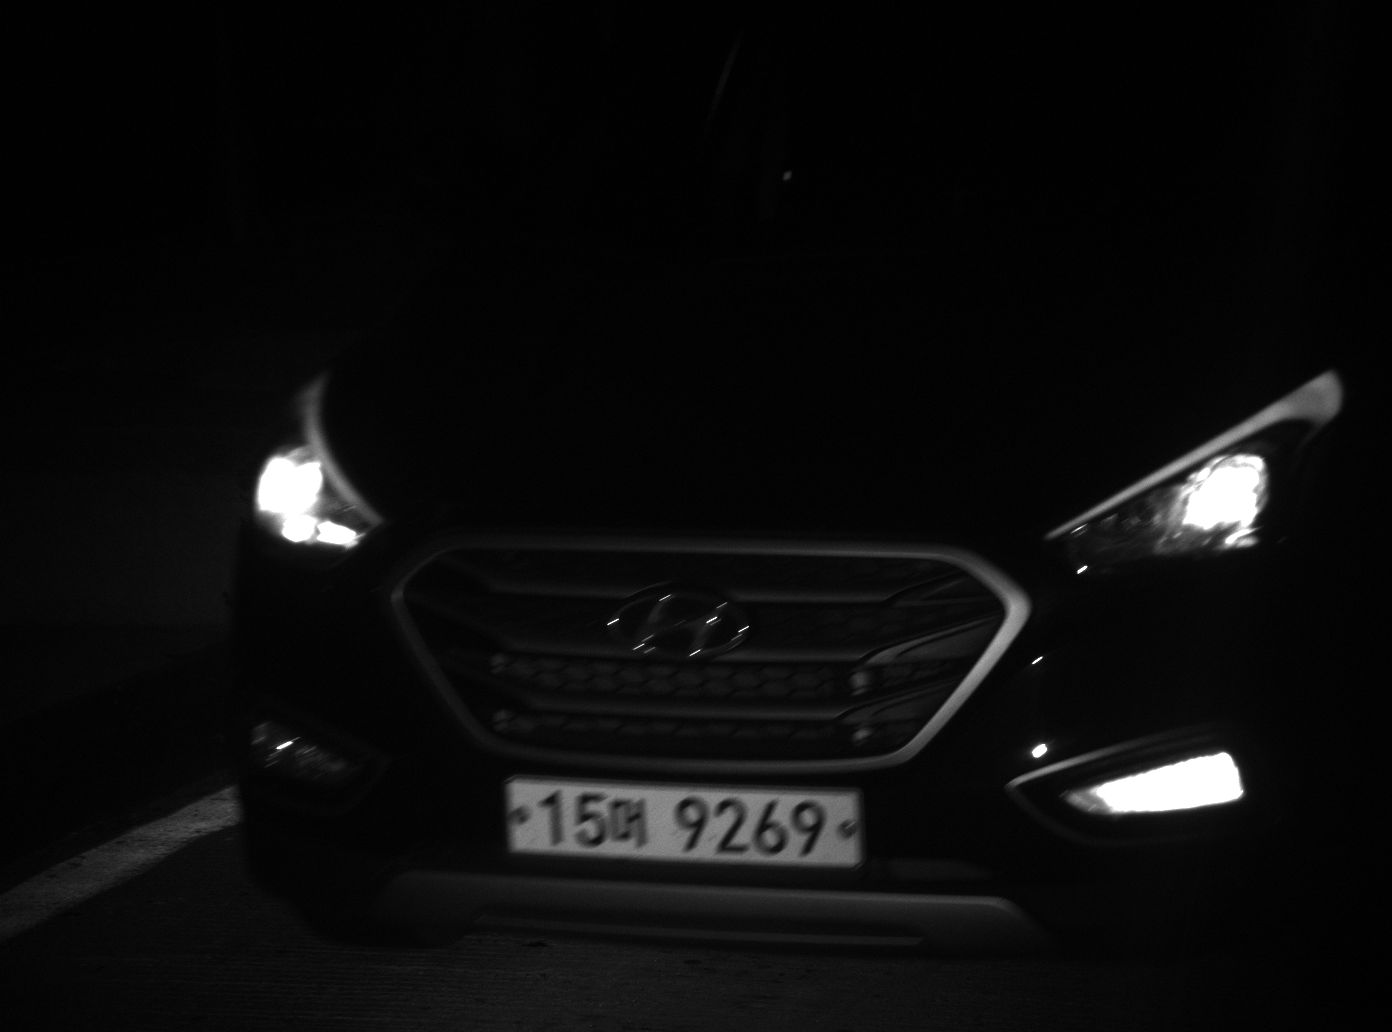car: (216, 1, 1392, 958)
plate: (503, 775, 860, 867)
